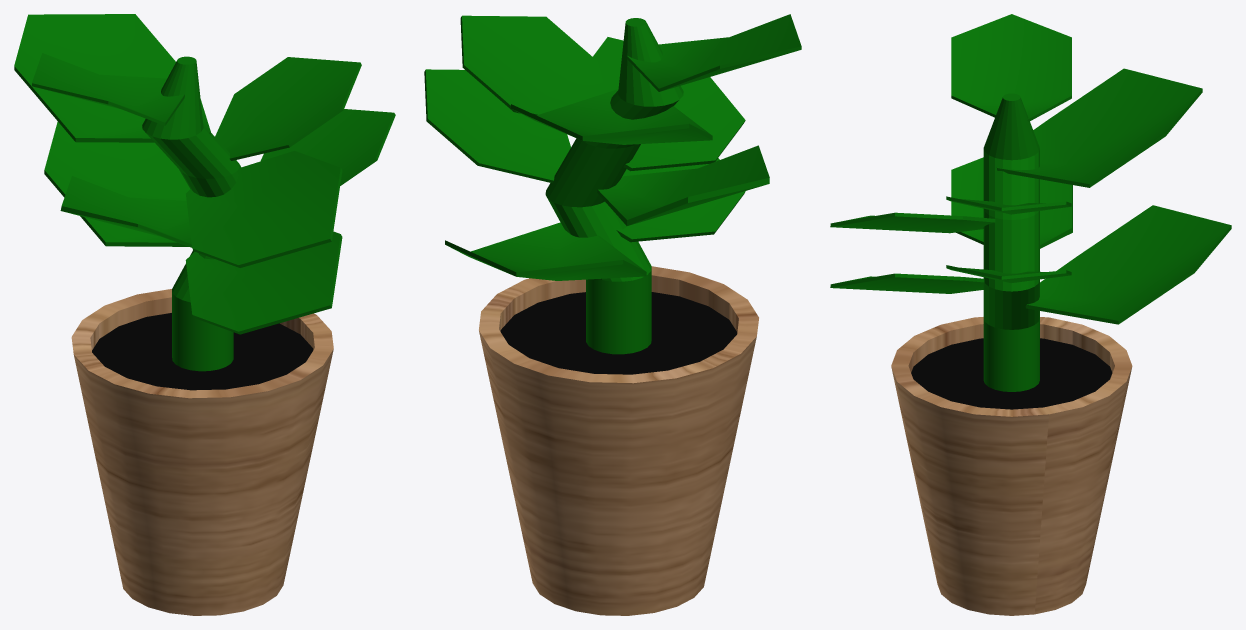
File: Planta1.fbx
3 renders of one model, left to right at view 1: azimuth 30°, elevation 25°; view 2: azimuth 150°, elevation 25°; view 3: azimuth 270°, elevation 25°, orthographic. The views are drawn at different scales.
Visible parts, largest first — view 1: pCylinder4; view 2: pCylinder4; view 3: pCylinder4.
Boxes of the visible parts, <box> form: pCylinder4: <box>14,14,395,615</box>; pCylinder4: <box>424,14,801,615</box>; pCylinder4: <box>830,14,1231,615</box>.
Bounding box in the file's own units: 3.14 × 4.52 × 3.32.
